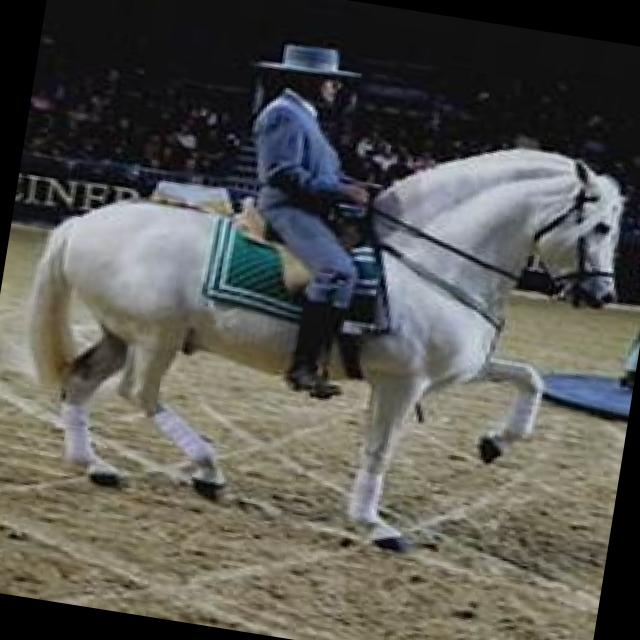animal: (0, 71, 638, 580)
